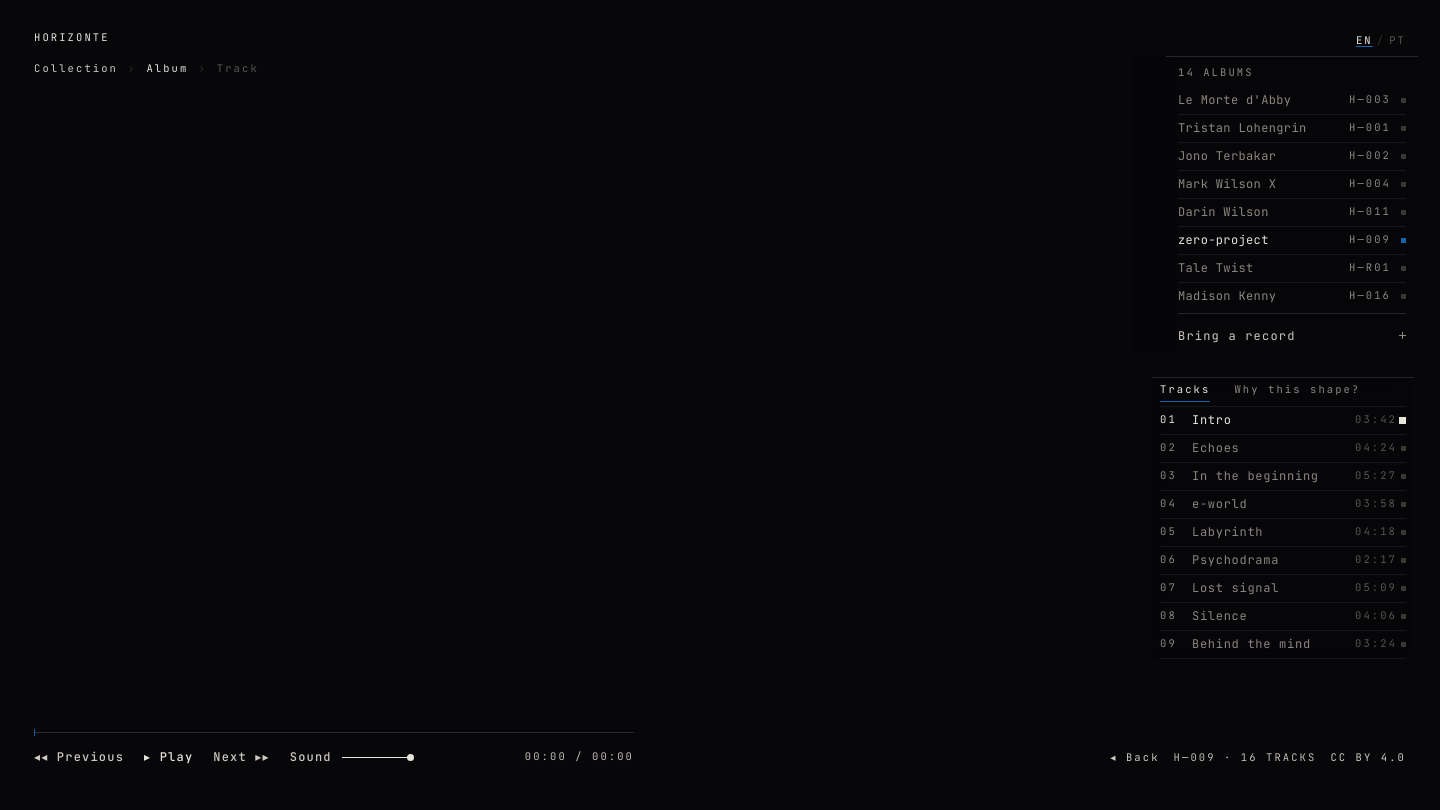
Test: why this shape › the open question comes with its answer and a concrete experiment
The image size is (1440, 810).
Click the tab "Why this shape?" at {"x": 1297, "y": 390}, box [1234,378,1360,402]
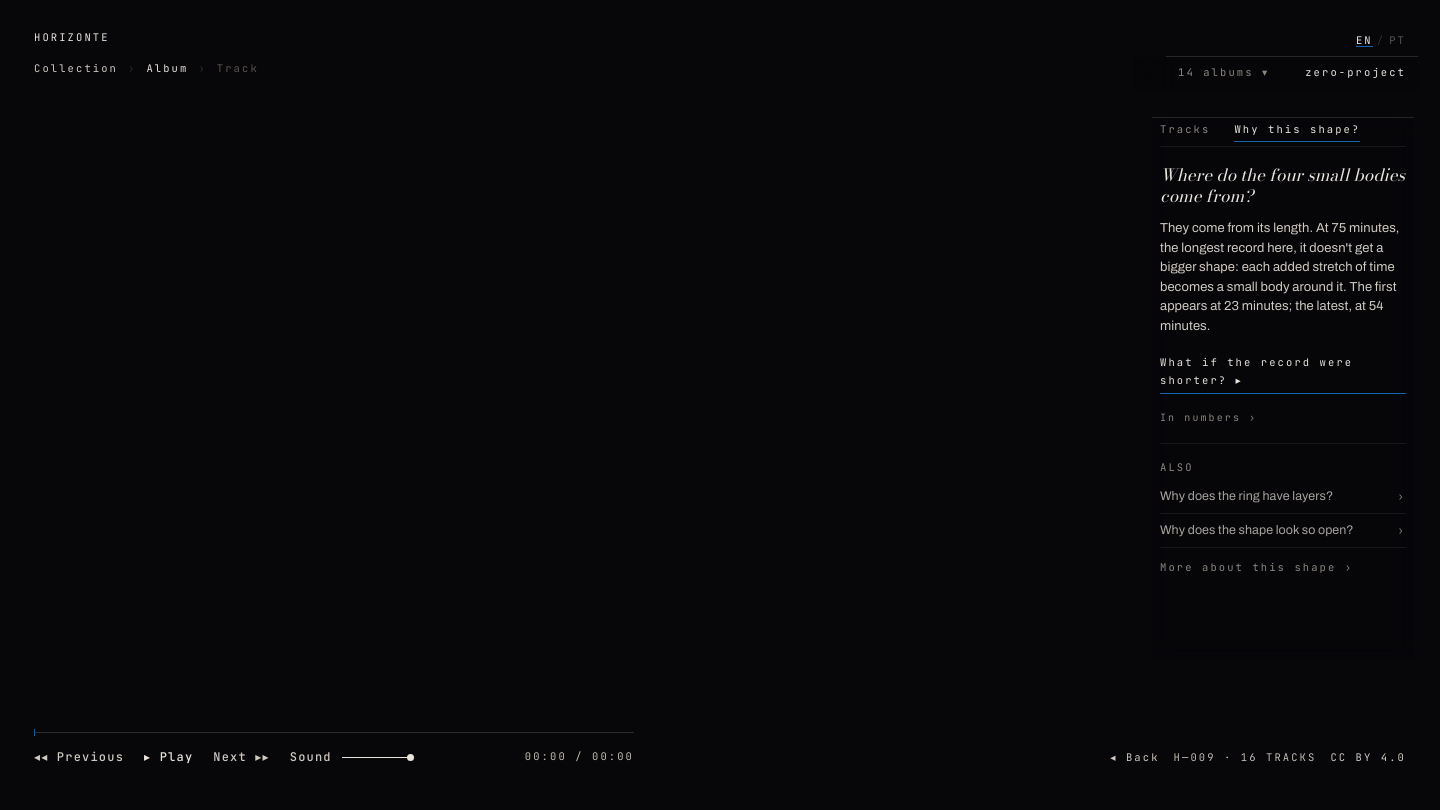
expect the heading "Where do the four small bodies come from?" is shown: met, box [1160,164,1406,207]
expect the text "They come from its length. At 75 minutes" is shown: met, box [1160,221,1400,333]
expect the button "What if the record were shorter? ▸" is shown: met, box [1160,354,1406,394]
